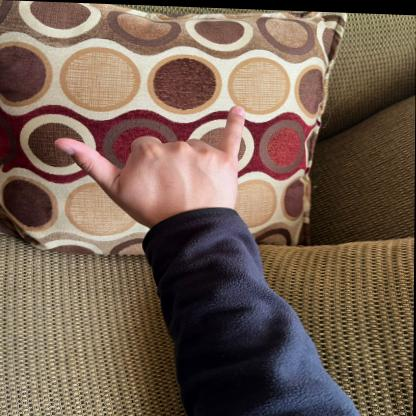Y: (53, 94, 253, 228)
